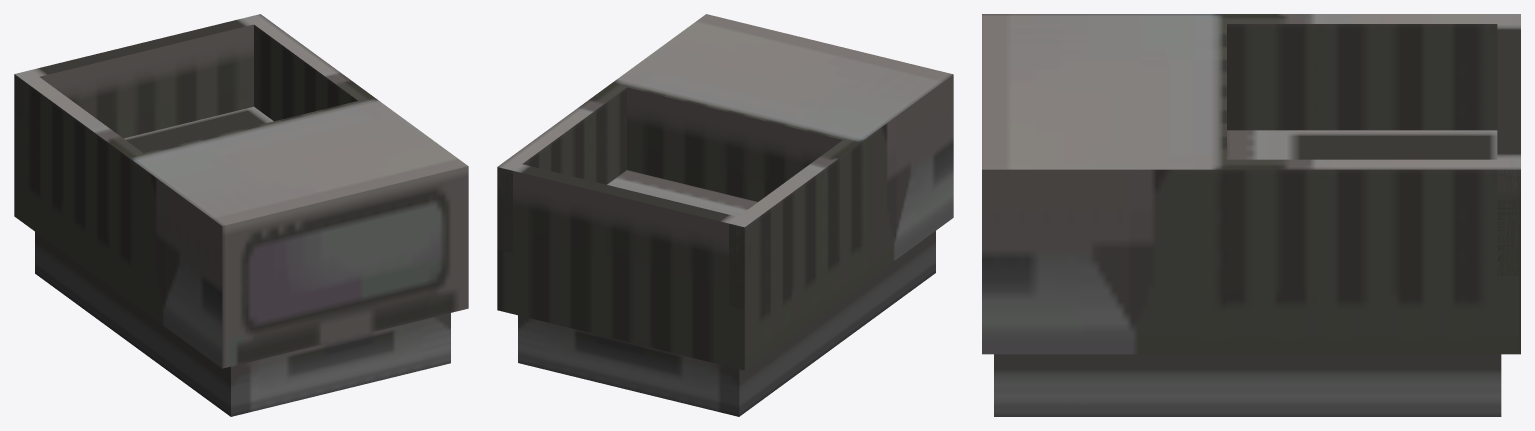
Rendered from Building_AncientHermeticCrate__Open.obj.
The picture shows the model from 3 angles, left to right: view 1: azimuth 30°, elevation 25°; view 2: azimuth 150°, elevation 25°; view 3: azimuth 270°, elevation 25°; orthographic projection. The views are drawn at different scales.
Visible parts, largest first — view 1: Body; view 2: Body; view 3: Body.
Boxes of the visible parts, bbox=[...] form: Body: bbox=[14, 14, 468, 416]; Body: bbox=[497, 14, 953, 416]; Body: bbox=[982, 14, 1520, 416].
Bounding box in the file's own units: 0.94 × 0.72 × 1.38.
1 material, 1 textured.
